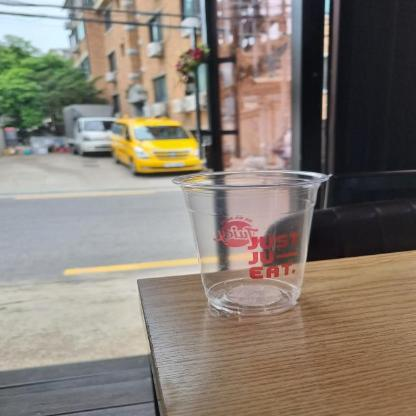Plastic Cup: (165, 162, 335, 320)
